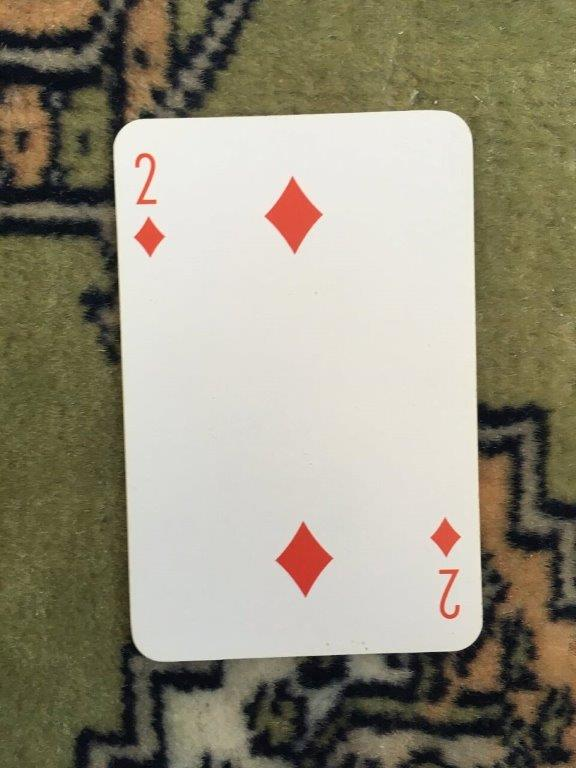2D: (107, 106, 487, 666)
